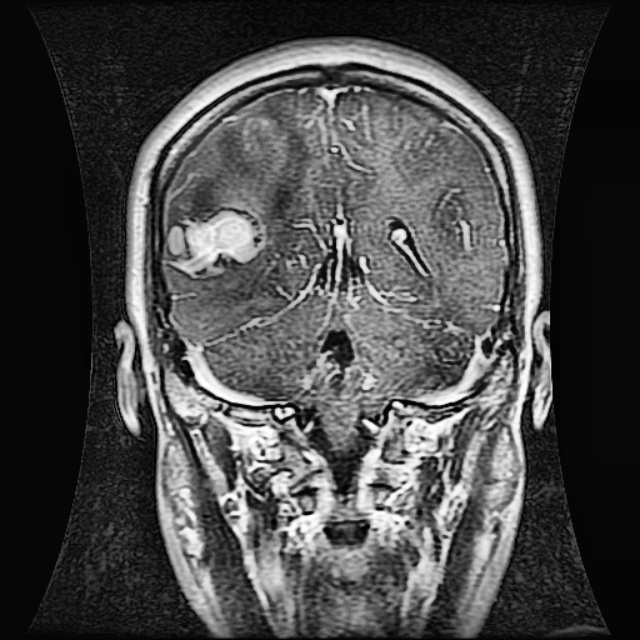Meningioma: (162, 202, 267, 278)
